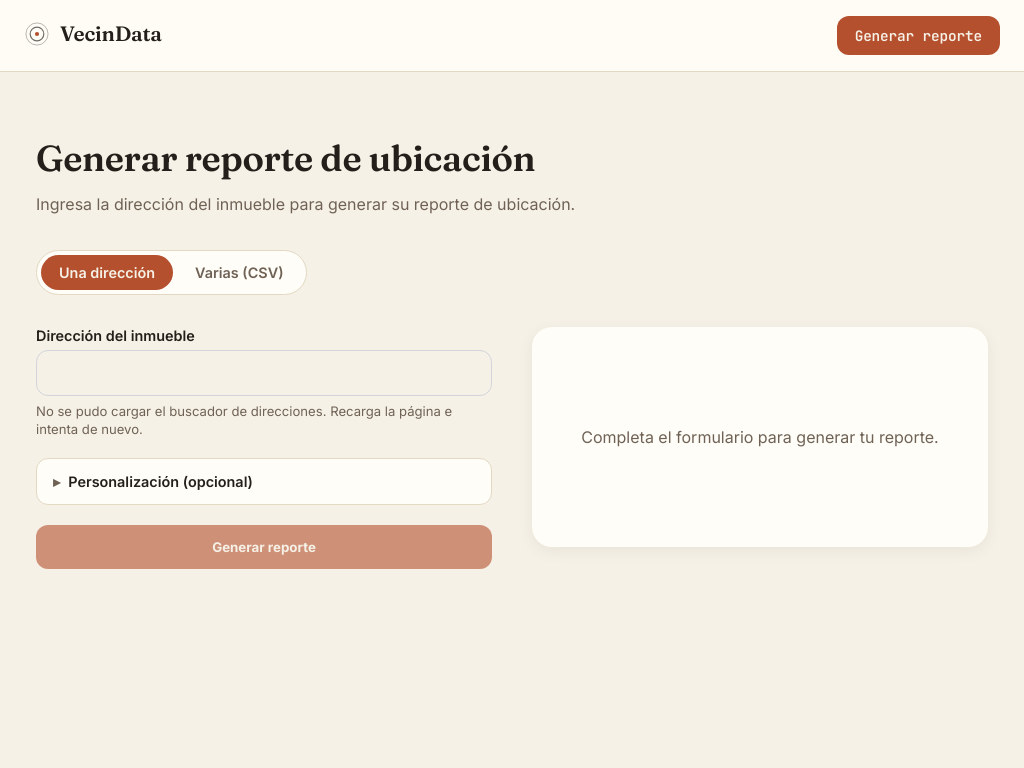
Test case: App › switches to the CSV batch tab on the operator page
Click the tab "Varias (CSV)" at {"x": 239, "y": 272}, box [177,255,302,290]
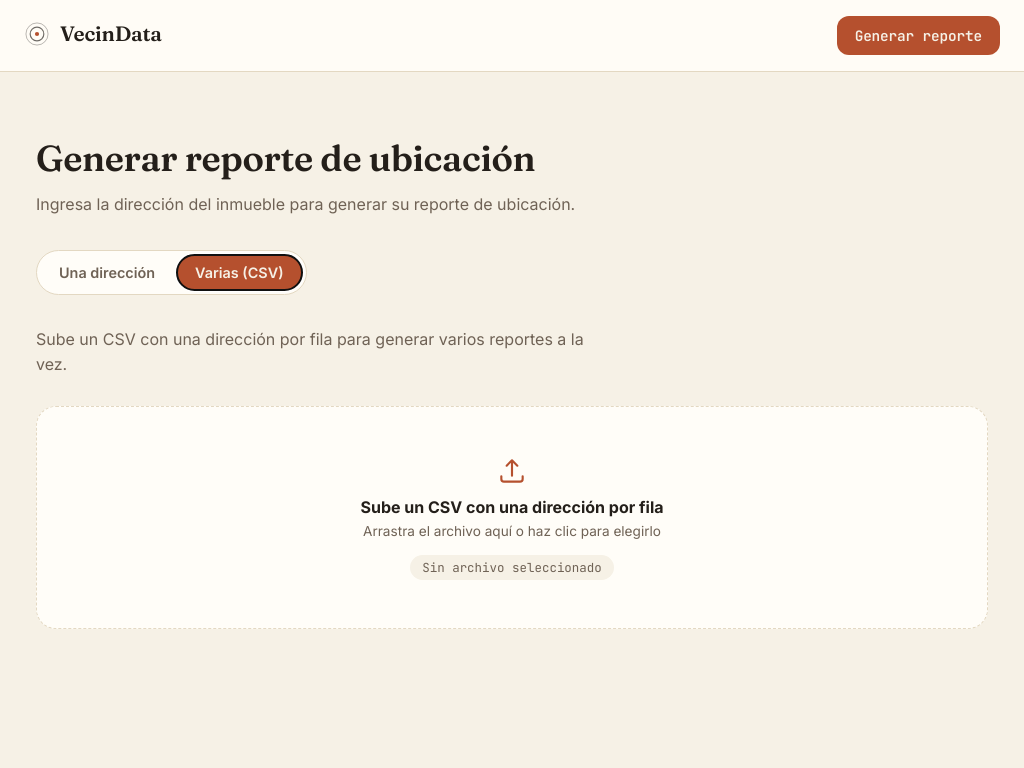
Result: the file field labelled "Sube un CSV" is shown at [36,406,988,629]
